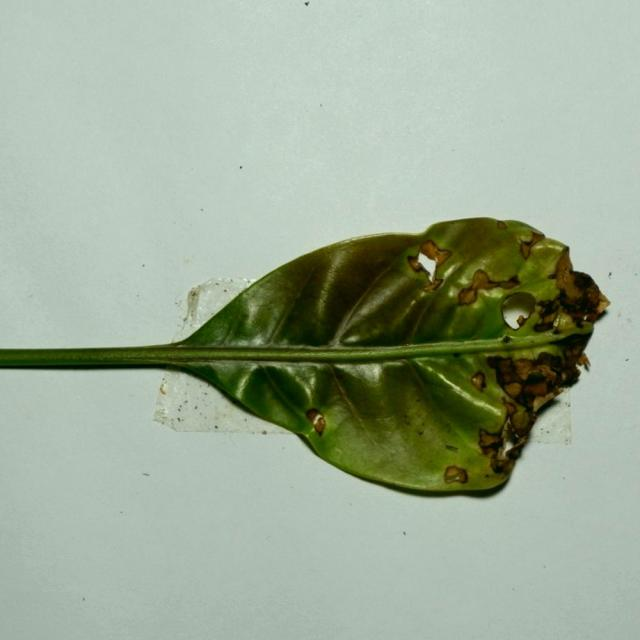Anthracnose: (530, 253, 610, 335), (490, 348, 579, 413), (477, 413, 525, 475), (457, 267, 517, 307), (410, 241, 449, 290), (393, 397, 439, 438), (506, 301, 549, 336), (534, 297, 572, 331), (554, 250, 575, 295), (517, 231, 547, 261), (180, 289, 200, 331), (509, 409, 534, 437), (423, 242, 452, 265), (511, 358, 537, 382), (486, 355, 513, 378), (478, 428, 502, 452), (466, 269, 492, 291), (498, 364, 523, 386), (306, 409, 326, 436), (443, 465, 468, 484), (457, 288, 478, 306), (503, 382, 524, 399), (501, 398, 518, 418), (470, 371, 486, 392), (407, 255, 424, 273), (535, 352, 555, 367), (573, 272, 590, 289), (519, 240, 532, 259), (529, 231, 545, 246), (518, 231, 534, 245), (516, 315, 527, 327), (496, 220, 508, 230), (159, 383, 166, 395), (403, 415, 411, 425), (548, 272, 557, 280), (502, 335, 511, 343)
Mango: (0, 219, 609, 501)
